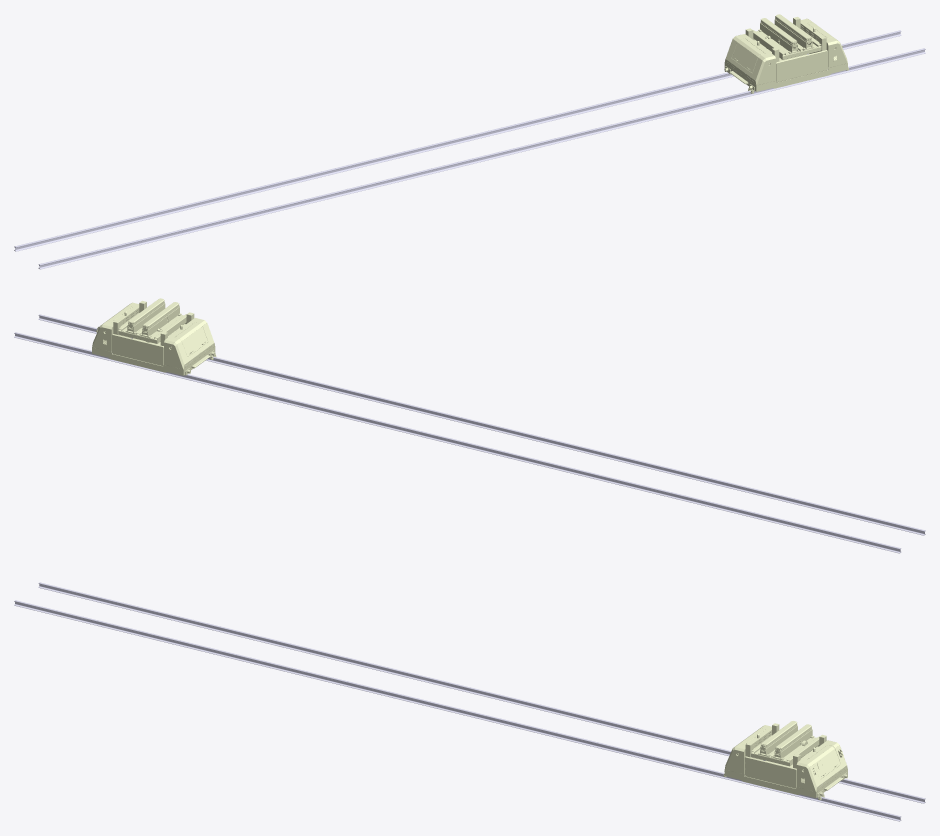
The model's file is TelescopicFork.glb.
3 views of the same model, one above another, from view 1: azimuth 30°, elevation 25°; view 2: azimuth 150°, elevation 25°; view 3: azimuth 330°, elevation 25° (orthographic).
Parts seen in each view (by area): view 1: Rails, Main; view 2: Rails, Main; view 3: Rails, Main, Layer3.
Part boxes in pixels (left/top/right/bottom): Rails: left=14, top=30, right=925, bottom=269; Main: left=724, top=17, right=848, bottom=93; Rails: left=14, top=314, right=925, bottom=553; Main: left=92, top=300, right=216, bottom=375; Rails: left=14, top=582, right=925, bottom=821; Main: left=723, top=723, right=847, bottom=800; Layer3: left=761, top=721, right=811, bottom=750.
Size of the model in its own units: 27.3 by 1.37 by 1.72.
